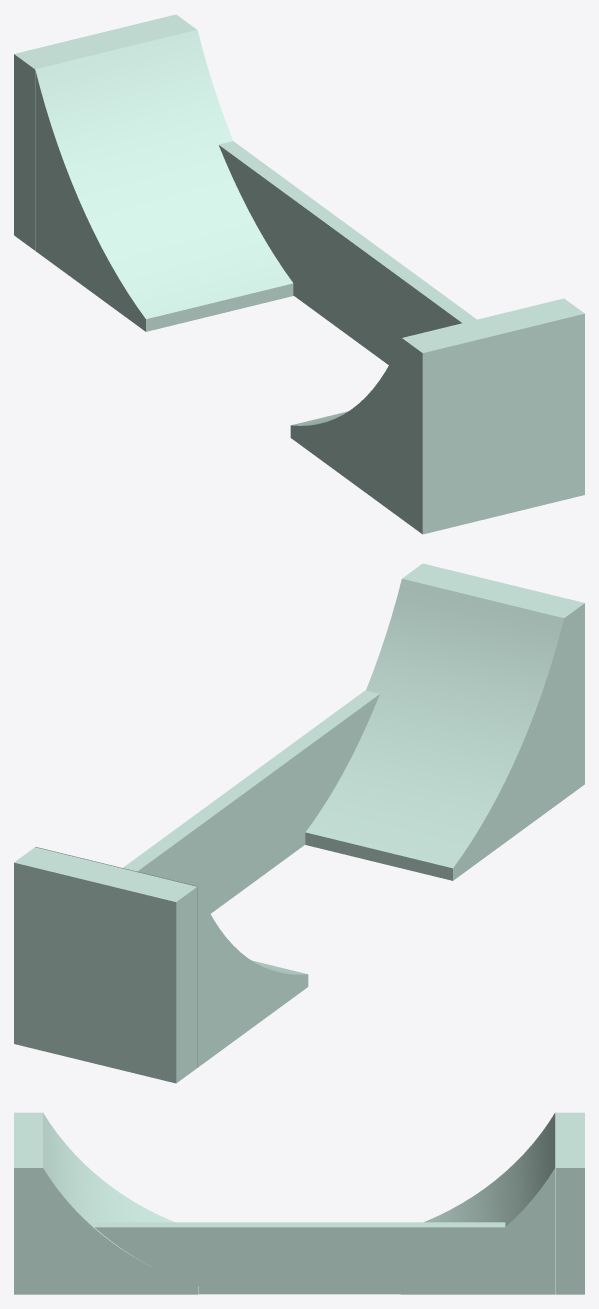
3 renders of one model, top to bottom at view 1: azimuth 30°, elevation 25°; view 2: azimuth 150°, elevation 25°; view 3: azimuth 270°, elevation 25°, orthographic. The views are drawn at different scales.
Parts seen in each view (by area): view 1: Renderer Node; view 2: Renderer Node; view 3: Renderer Node.
Part boxes in pixels (box(x1,y1,x2,y2)): Renderer Node: box(14, 14, 584, 534); Renderer Node: box(14, 563, 584, 1083); Renderer Node: box(14, 1112, 584, 1294).
Size of the model in its own units: 0.3438 by 0.3678 by 1.5.
